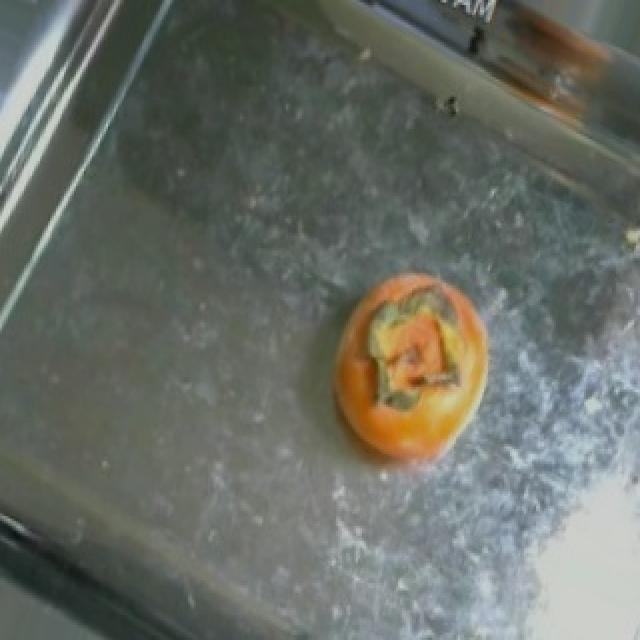Fruit: (310, 253, 504, 496)
